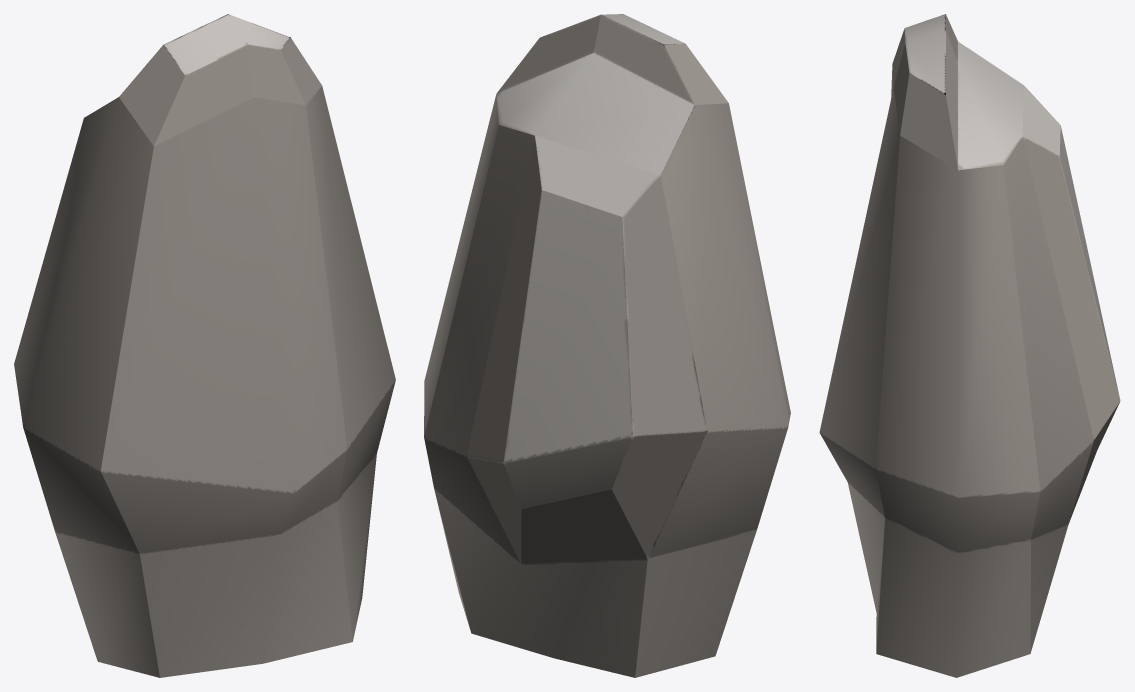
The model's file is cliff002.fbx.
The picture shows the model from 3 angles, left to right: view 1: azimuth 30°, elevation 25°; view 2: azimuth 150°, elevation 25°; view 3: azimuth 270°, elevation 25°; orthographic projection. The views are drawn at different scales.
Visible parts, largest first — view 1: cliff2; view 2: cliff2; view 3: cliff2.
Boxes of the visible parts, left/top/right/bottom form: cliff2: left=14, top=14, right=395, bottom=677; cliff2: left=424, top=14, right=790, bottom=677; cliff2: left=819, top=14, right=1120, bottom=677.
Bounding box in the file's own units: 44.24 × 70.56 × 32.95.
